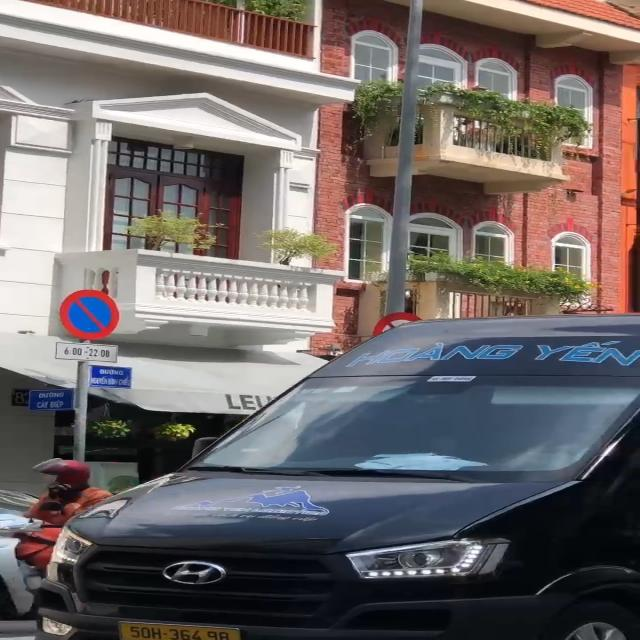Bien bao cam do xe: (53, 285, 129, 343)
